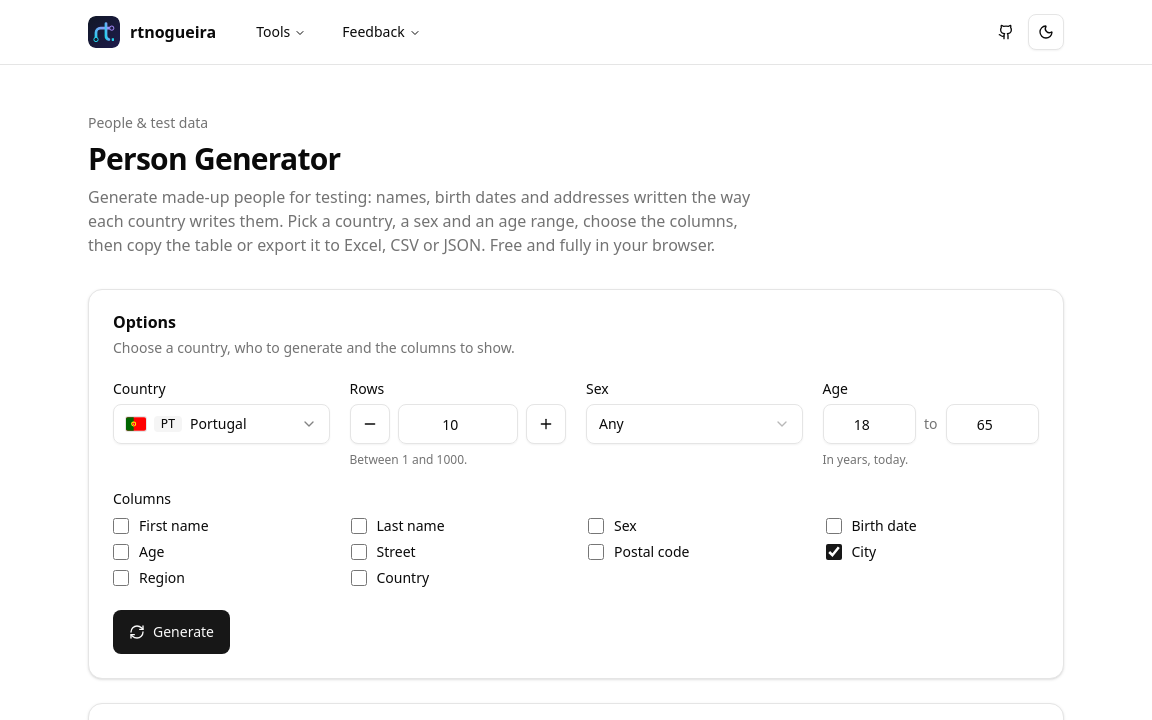
person generator page › needs at least one column
Check: the heading "Person Generator" is shown, box [88, 138, 340, 179]
Click the checkbox labelled "City".
click(834, 552)  # box [826, 544, 842, 560]
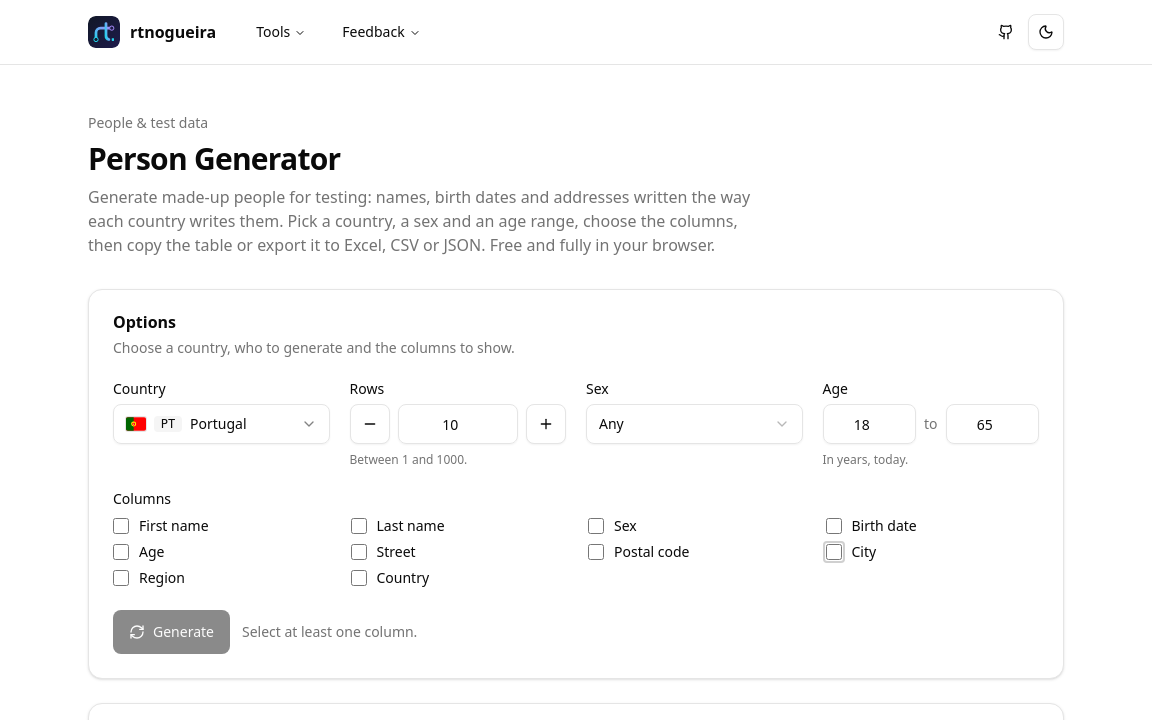
Check: the button "Generate" is disabled, box [113, 610, 230, 654]
Check: the text "Select at least one column." is shown, box [242, 622, 417, 642]
